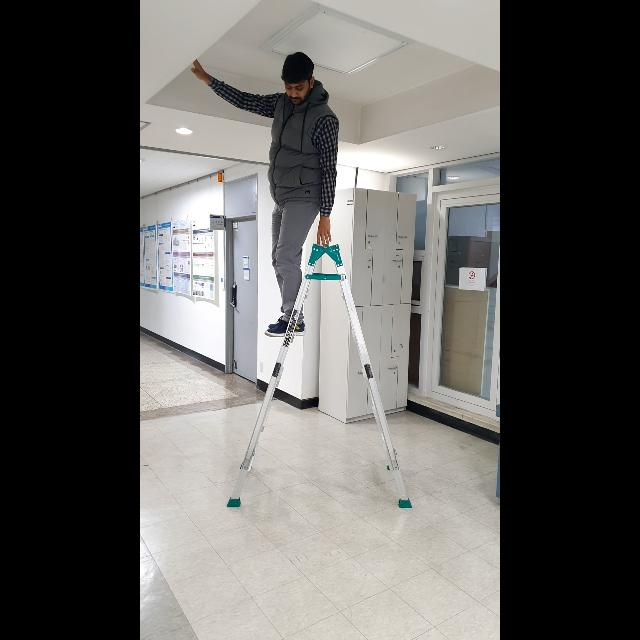hard hat: (223, 240, 415, 512)
vest: (185, 44, 338, 340)
